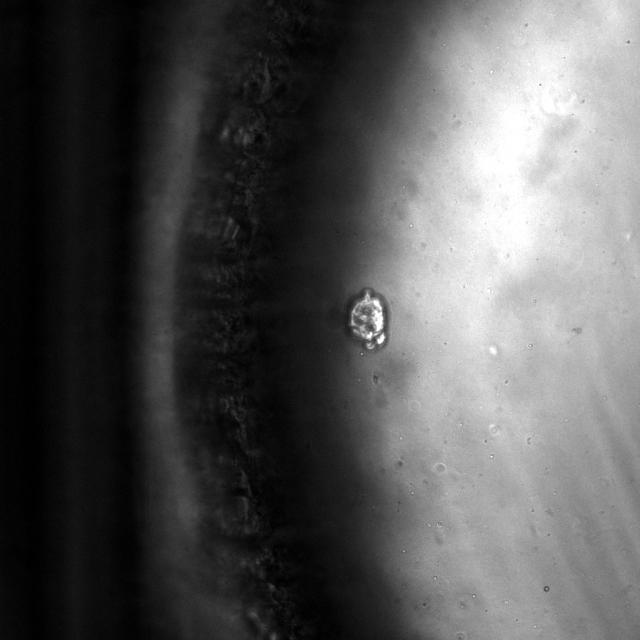organoid: (347, 289, 388, 350)
